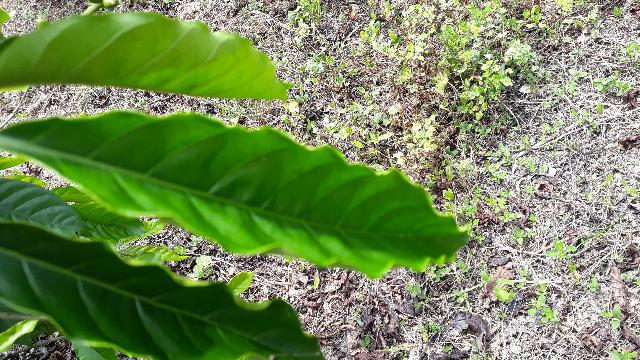healthy: (3, 113, 473, 276)
